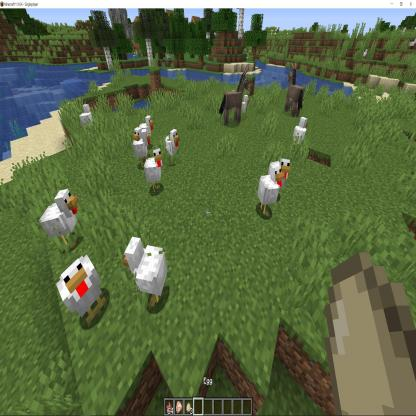minecraft-pigs: (169, 180, 194, 233), (191, 157, 203, 182)
